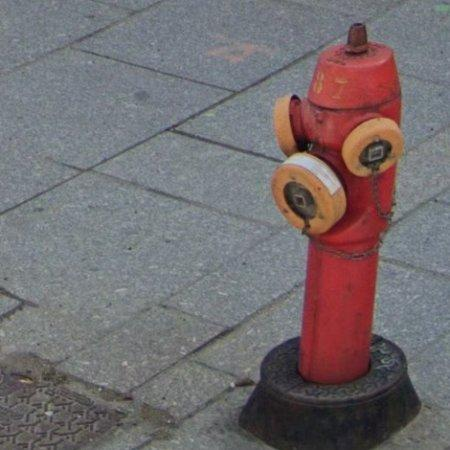a fire hydrant: (273, 24, 404, 386)
